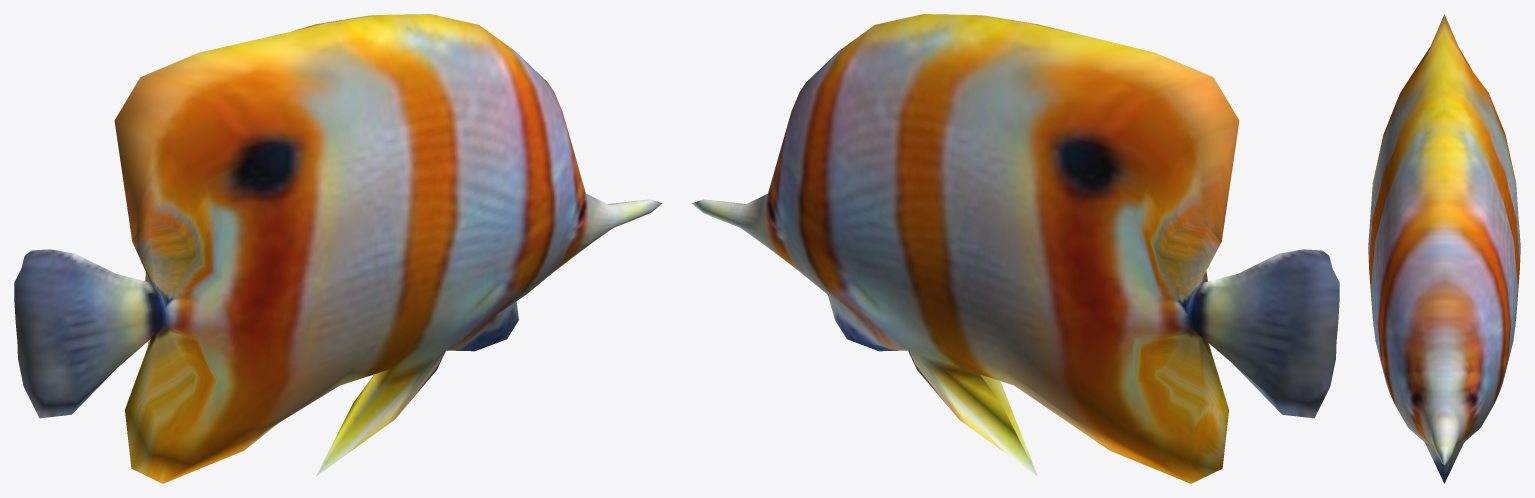
Rendered from Fish_C.fbx.
The picture shows the model from 3 angles, left to right: view 1: azimuth 30°, elevation 25°; view 2: azimuth 150°, elevation 25°; view 3: azimuth 270°, elevation 25°; orthographic projection. The views are drawn at different scales.
Visible parts, largest first — view 1: pSphere1; view 2: pSphere1; view 3: pSphere1.
Boxes of the visible parts, x1,y1,x2,y2 form: pSphere1: (14,14,662,483); pSphere1: (691,14,1339,483); pSphere1: (1368,14,1520,483).
Bounding box in the file's own units: 2.46 × 1.64 × 0.5653.
Materials: 1 (1 with a texture image).
